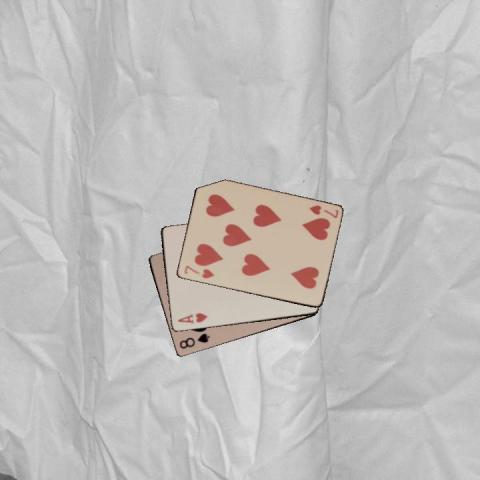7h: (181, 263, 215, 280), (306, 202, 339, 219)
8s: (176, 330, 211, 350)
Ah: (175, 310, 208, 325)
